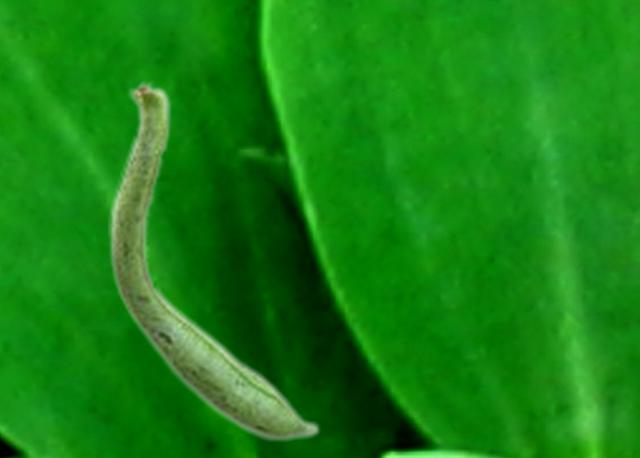french_bean: (108, 78, 320, 442)
